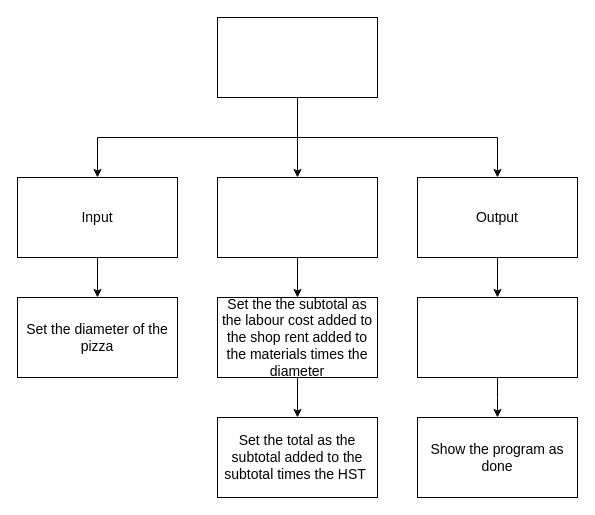
The diagram is 595 pixels wide and 515 high, and some of its shapes have lost their labels. The shapes that lost their labels are listed below. From the top down, each one's box as (x1, y1, x2, y2) in pixels, then its label:
(216, 16, 378, 98): Cost of a Pizza
(216, 176, 378, 258): Process
(416, 296, 578, 378): Show the total cost of the pizza
